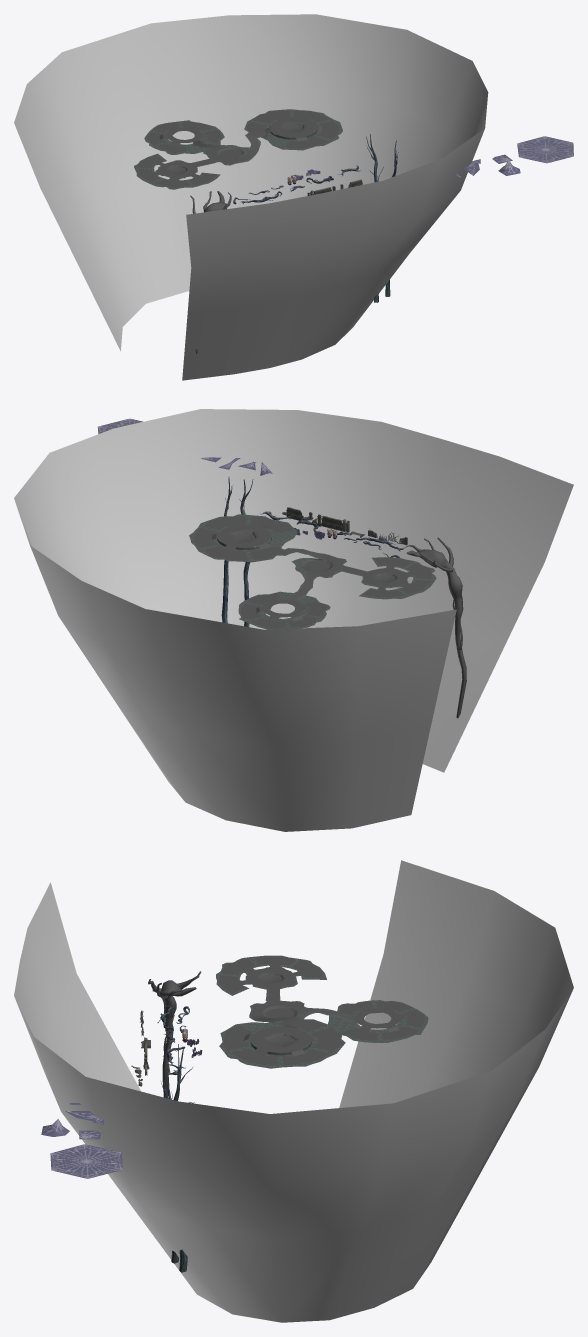
The model's file is f_1005_floor.FBX.
The picture shows the model from 3 angles, top to bottom: view 1: azimuth 30°, elevation 25°; view 2: azimuth 150°, elevation 25°; view 3: azimuth 270°, elevation 25°; orthographic projection. The views are drawn at different scales.
Visible parts, largest first — view 1: f_1005_background, f_1005_foor_col, f_1005_floor, f_1005_spidferweb_a; view 2: f_1005_background, f_1005_foor_col, f_1005_floor, f_1005_trees_a; view 3: f_1005_background, f_1005_foor_col, f_1005_floor, f_1005_spidferweb_a, f_1005_trees_a.
Boxes of the visible parts, box(x1,y1,x2,y2) form: f_1005_background: box(14, 14, 488, 380); f_1005_foor_col: box(137, 110, 339, 187); f_1005_floor: box(134, 109, 342, 189); f_1005_spidferweb_a: box(517, 136, 573, 163); f_1005_background: box(14, 409, 573, 831); f_1005_foor_col: box(194, 516, 431, 628); f_1005_floor: box(189, 514, 436, 629); f_1005_trees_a: box(406, 537, 466, 718); f_1005_background: box(14, 860, 573, 1322); f_1005_foor_col: box(219, 956, 425, 1065); f_1005_floor: box(216, 955, 428, 1068); f_1005_spidferweb_a: box(50, 1144, 123, 1178); f_1005_trees_a: box(148, 971, 201, 1097).
Bounding box in the file's own units: 16653 × 8096 × 14484.
